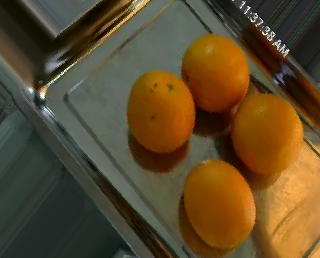Orange: (183, 158, 257, 250), (233, 93, 304, 178), (126, 70, 195, 153), (181, 34, 250, 113)
